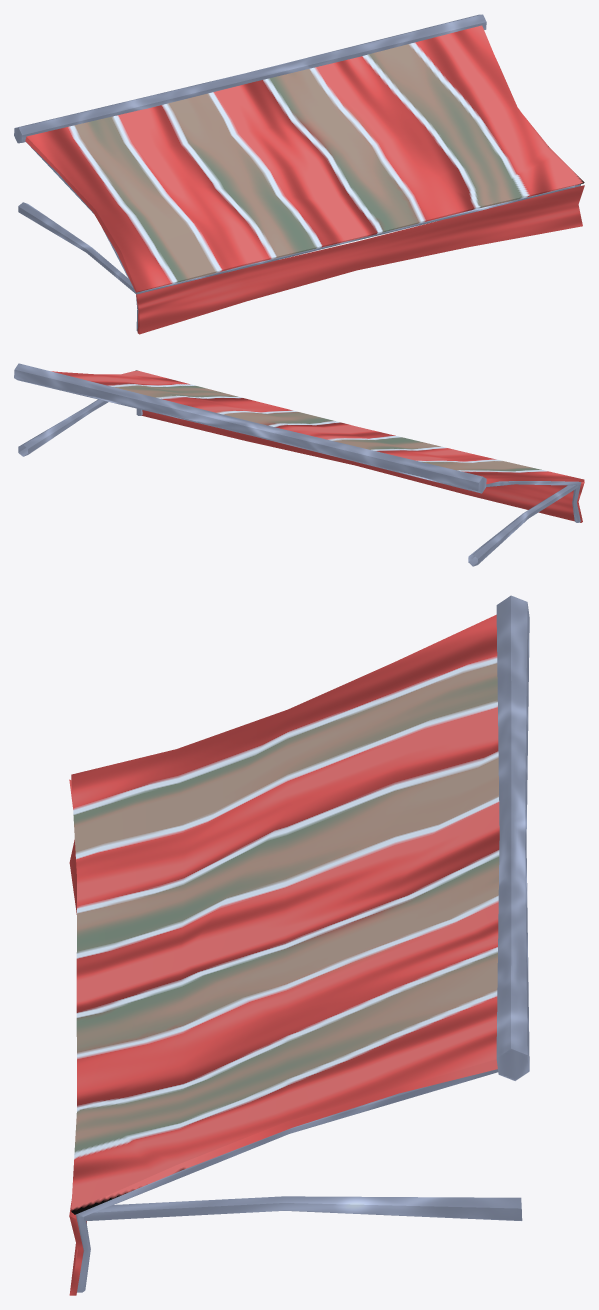
Rendered from Awning_No_Text.glb.
3 views of the same model, one above another, from view 1: azimuth 30°, elevation 25°; view 2: azimuth 150°, elevation 25°; view 3: azimuth 270°, elevation 25° (orthographic). The views are drawn at different scales.
Parts seen in each view (by area): view 1: Awning; view 2: Awning; view 3: Awning.
Part boxes in pixels (x1,y1,x2,y2): Awning: (14,14,584,334); Awning: (14,363,584,566); Awning: (69,595,529,1295).
Size of the model in its own units: 3.24 by 0.8575 by 1.39.
1 material, 1 textured.
